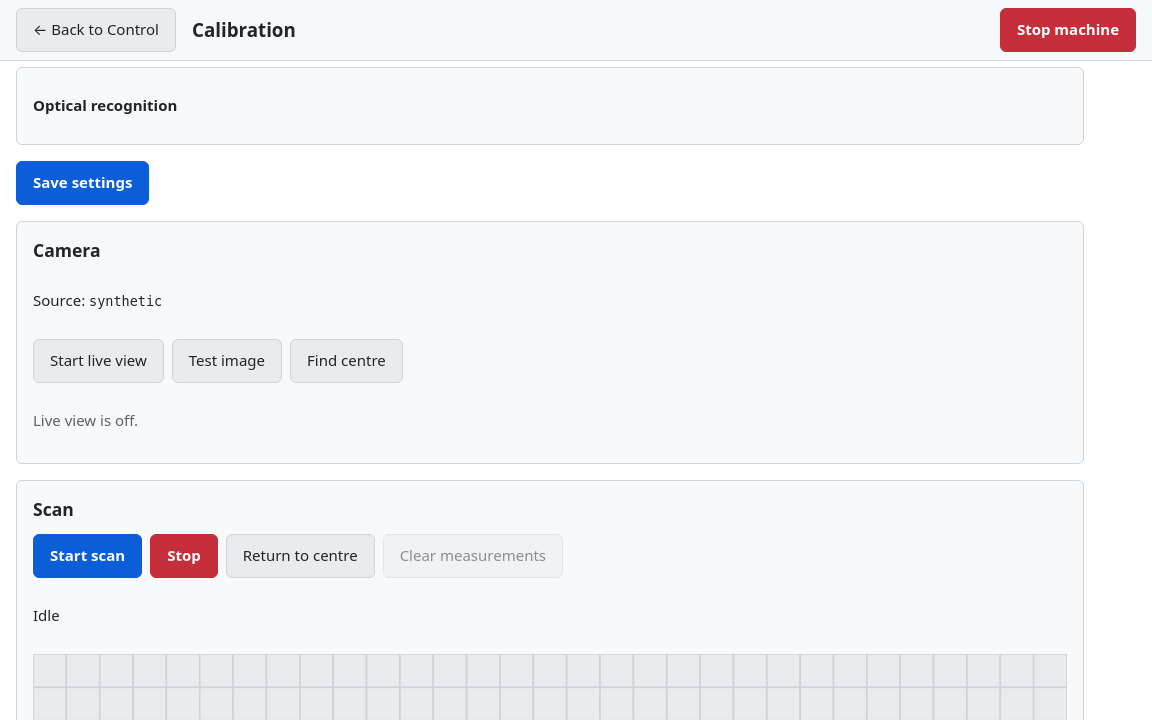
Test: optical camera › asks for the camera state and toggles the live view
This screenshot has width=1152, height=720.
Later steps or results of the test are not shown.
(page scrolled)
expect the text "synthetic" is shown: met, box [89,293,162,309]
expect the text "Live view is off." is shown: met, box [33,410,138,432]
Click the button "Start live view".
click(98, 361)  # box [33,339,164,383]
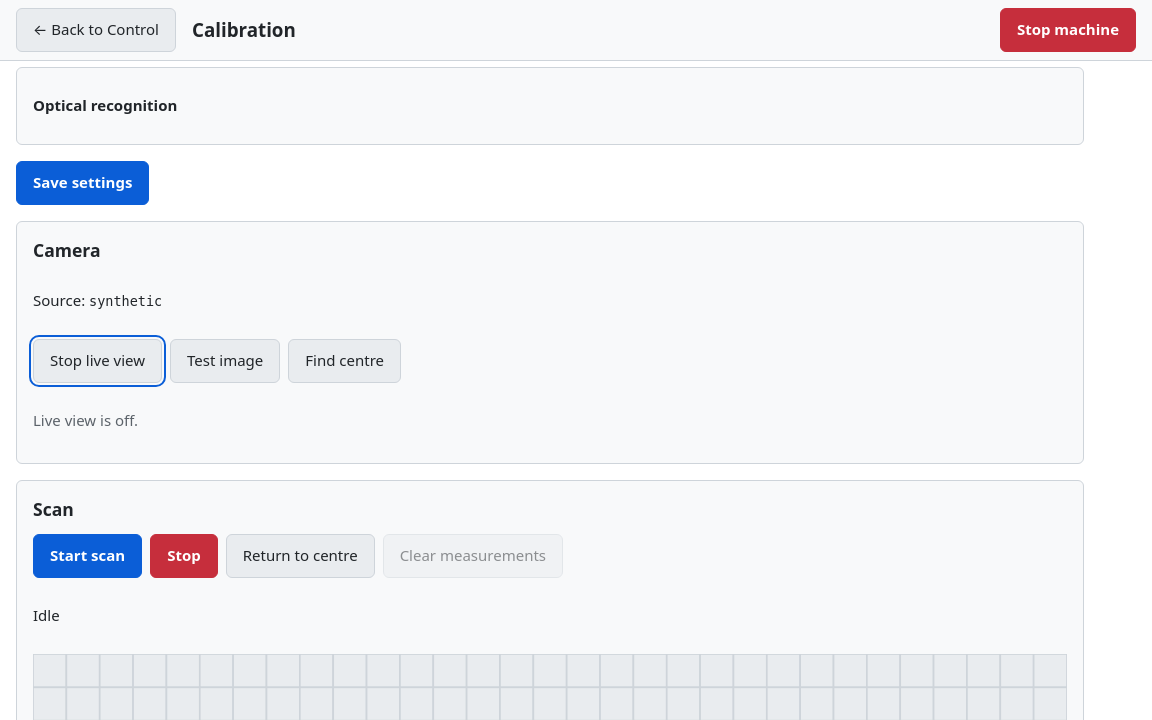
expect the text "Live view is off." is shown: met, box [33,410,138,432]
expect the button "Stop live view" is shown: met, box [33,339,162,383]
